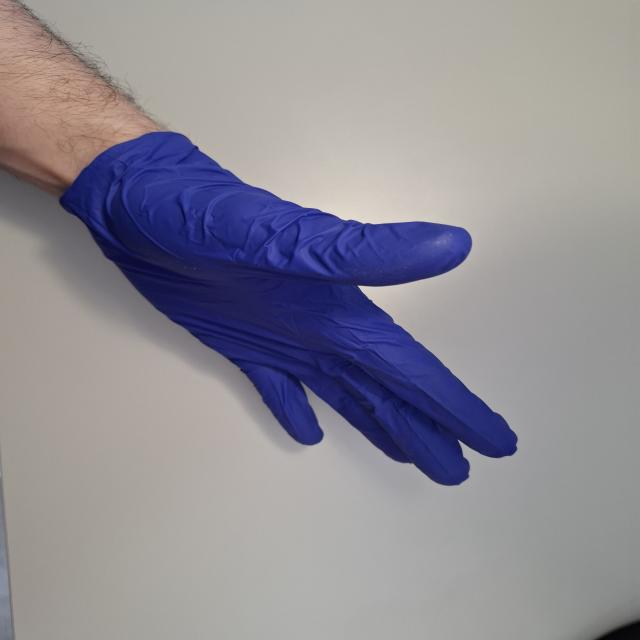glove_on: (53, 128, 534, 490)
